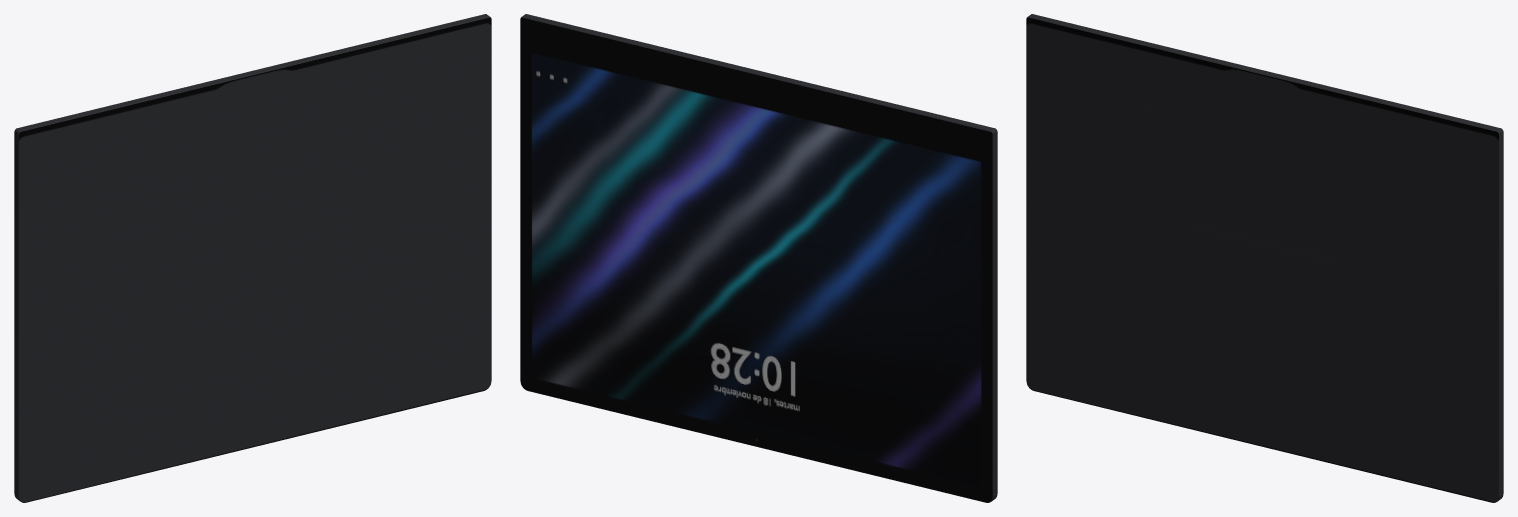
File: lid.obj
3 renders of one model, left to right at view 1: azimuth 30°, elevation 25°; view 2: azimuth 150°, elevation 25°; view 3: azimuth 330°, elevation 25°, orthographic.
Parts seen in each view (by area): view 1: lid.001, lid; view 2: display, lid; view 3: lid.001, lid.
Part boxes in pixels (x1,y1,x2,y2): lid.001: [19, 17, 491, 502]; lid: [14, 14, 491, 502]; display: [520, 17, 992, 502]; lid: [520, 14, 997, 502]; lid.001: [1026, 17, 1498, 502]; lid: [1026, 14, 1503, 502].
Size of the model in its own units: 364 by 274 by 6.08.
